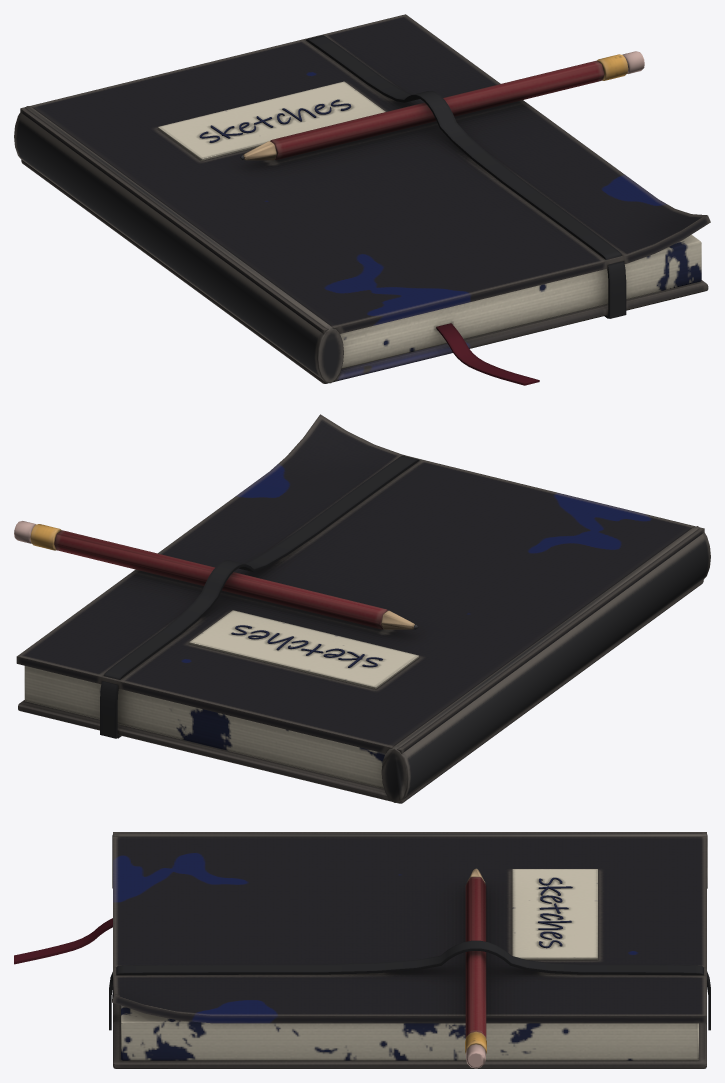
File: LostSketchbook.fbx
The picture shows the model from 3 angles, top to bottom: view 1: azimuth 30°, elevation 25°; view 2: azimuth 150°, elevation 25°; view 3: azimuth 270°, elevation 25°; orthographic projection. The views are drawn at different scales.
Visible parts, largest first — view 1: LostSketchbook; view 2: LostSketchbook; view 3: LostSketchbook.
Boxes of the visible parts, bbox=[...] form: LostSketchbook: bbox=[14, 14, 710, 385]; LostSketchbook: bbox=[14, 414, 710, 803]; LostSketchbook: bbox=[14, 832, 710, 1068].
Bounding box in the file's own units: 87.1 × 13.9 × 106.
